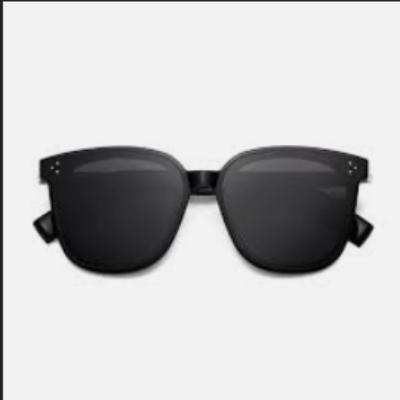glasses: (27, 133, 375, 286)
